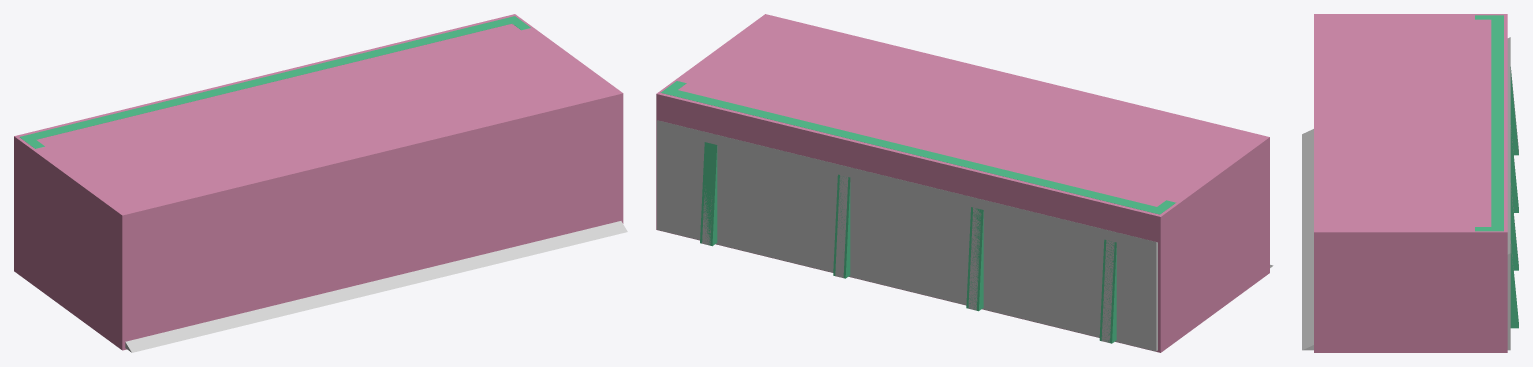
Rendered from race_stands_01.dae.
3 renders of one model, left to right at view 1: azimuth 30°, elevation 25°; view 2: azimuth 150°, elevation 25°; view 3: azimuth 270°, elevation 25°, orthographic. The views are drawn at different scales.
Visible parts, largest first — view 1: Untitled, ind_bld_a10, Colmesh-1; view 2: Untitled, ind_bld_a10, Colmesh-1, ind_bld_a500; view 3: Untitled, Colmesh-1, ind_bld_a10.
Part boxes in pixels (bbox=[...]): Untitled: bbox=[14, 14, 623, 350]; ind_bld_a10: bbox=[125, 221, 627, 352]; Colmesh-1: bbox=[19, 16, 530, 148]; Untitled: bbox=[656, 14, 1269, 352]; ind_bld_a10: bbox=[657, 120, 1273, 351]; Colmesh-1: bbox=[661, 81, 1175, 343]; ind_bld_a500: bbox=[702, 175, 1114, 342]; Untitled: bbox=[1314, 14, 1507, 352]; Colmesh-1: bbox=[1475, 15, 1518, 328]; ind_bld_a10: bbox=[1302, 37, 1510, 350].
Size of the model in its own units: 30.31 by 12.72 by 7.81.
